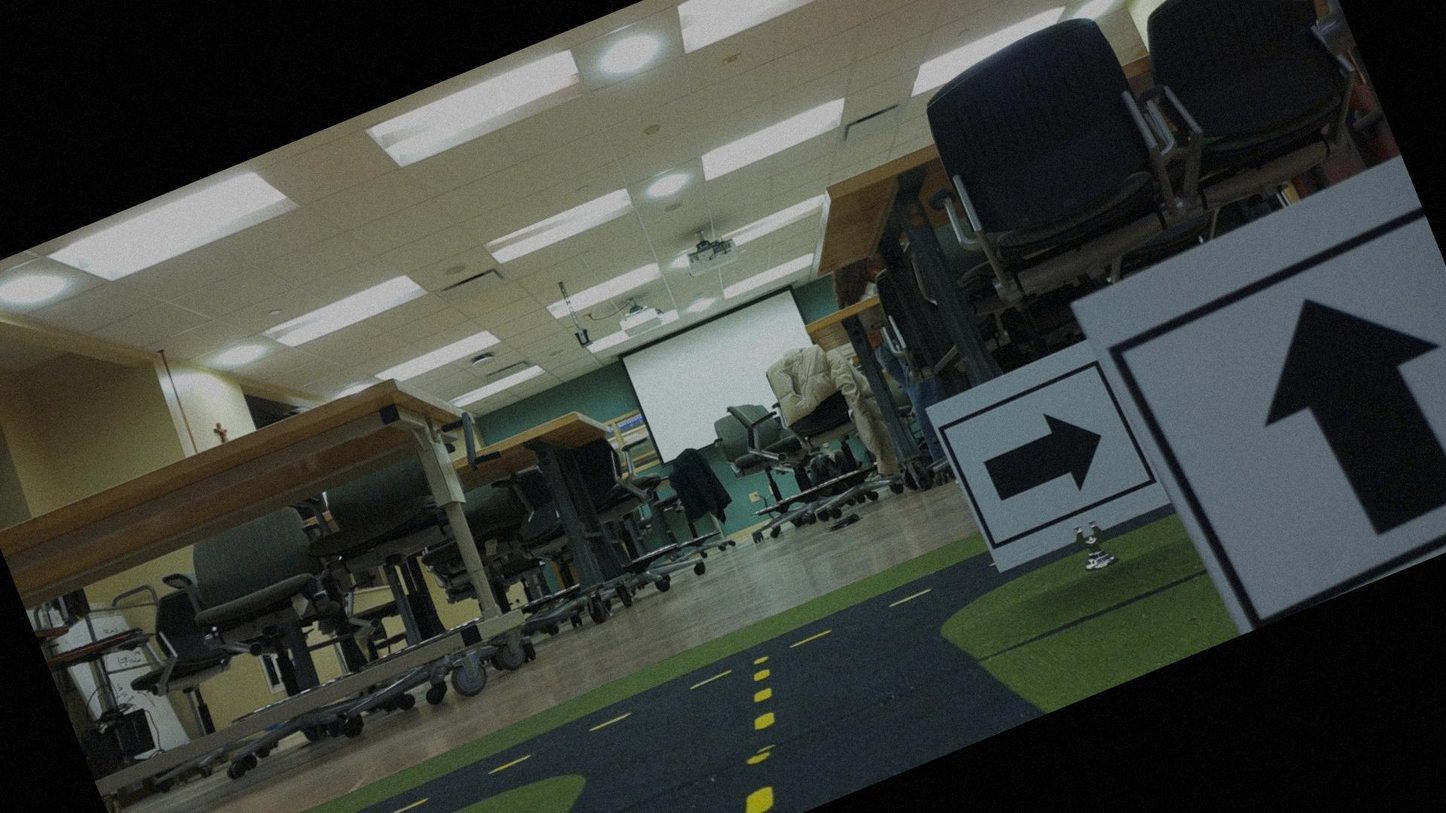gostraight: (1095, 166, 1445, 637)
turnleft: (933, 346, 1159, 576)
yellowline: (701, 668, 817, 812)
